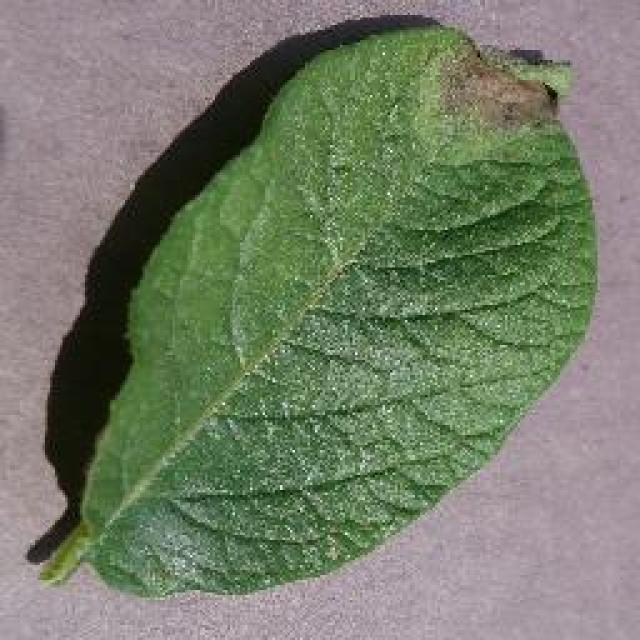late_blight: (38, 15, 602, 603)
